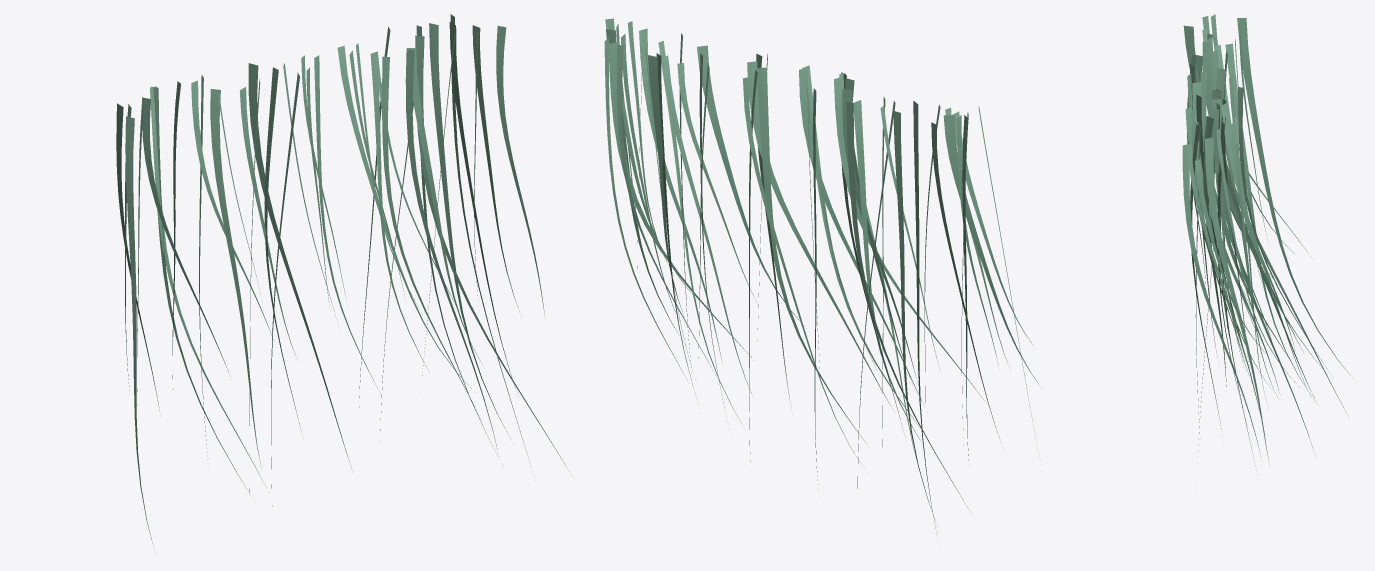
Rendered from mesh-plant-039-green-cascade_LOD0.glb.
The picture shows the model from 3 angles, left to right: view 1: azimuth 30°, elevation 25°; view 2: azimuth 150°, elevation 25°; view 3: azimuth 270°, elevation 25°; orthographic projection. The views are drawn at different scales.
Parts seen in each view (by area): view 1: geometry_0; view 2: geometry_0; view 3: geometry_0.
Part boxes in pixels (x1,y1,x2,y2): geometry_0: (116, 14, 568, 543); geometry_0: (604, 18, 1038, 532); geometry_0: (1182, 14, 1353, 465).
Bounding box in the file's own units: 2.71 × 2.36 × 1.65.
